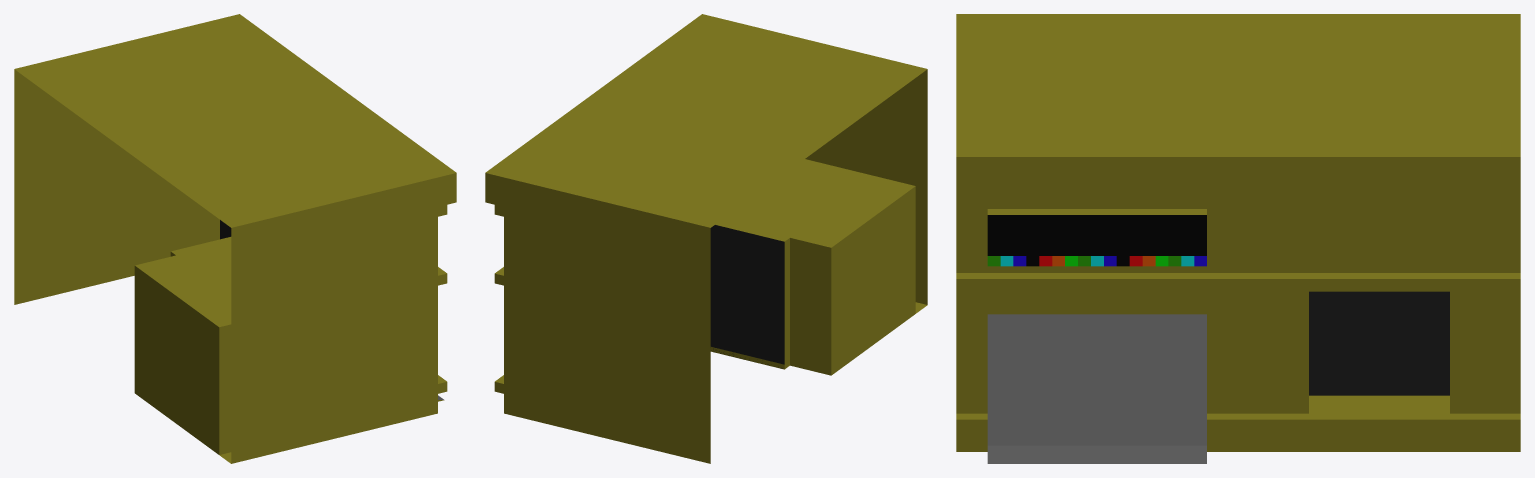
Rendered from Edificio-3.fbx.
The picture shows the model from 3 angles, left to right: view 1: azimuth 30°, elevation 25°; view 2: azimuth 150°, elevation 25°; view 3: azimuth 270°, elevation 25°; orthographic projection. The views are drawn at different scales.
Visible parts, largest first — view 1: Plane; view 2: Plane; view 3: Plane.
Part boxes in pixels (x1,y1,x2,y2): Plane: [14, 14, 456, 463]; Plane: [485, 14, 927, 463]; Plane: [956, 14, 1520, 463].
Size of the model in its own units: 240 by 240 by 400.
